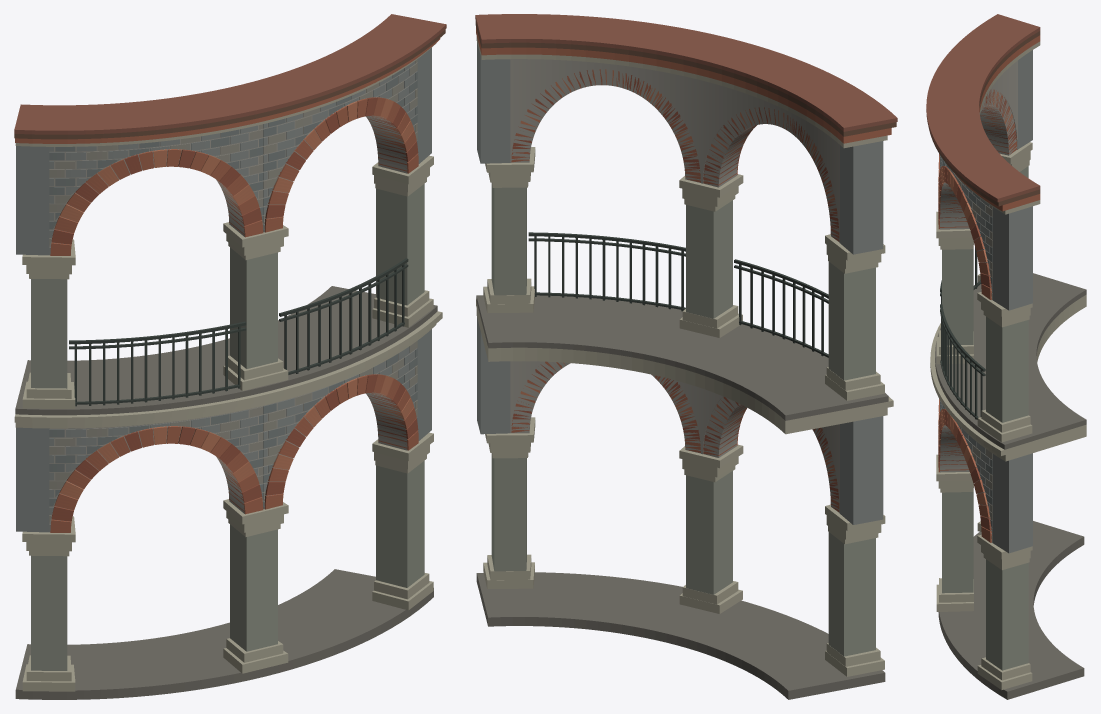
File: hongkou-yihong-garden-curved-double-arcade-raw.glb
3 renders of one model, left to right at view 1: azimuth 30°, elevation 25°; view 2: azimuth 150°, elevation 25°; view 3: azimuth 270°, elevation 25°, orthographic. The views are drawn at different scales.
Visible parts, largest first — view 1: 扆虹园弧形端廊上下双券与铸铁栏杆; view 2: 扆虹园弧形端廊上下双券与铸铁栏杆; view 3: 扆虹园弧形端廊上下双券与铸铁栏杆.
Boxes of the visible parts, bbox=[...] form: 扆虹园弧形端廊上下双券与铸铁栏杆: bbox=[14, 14, 446, 699]; 扆虹园弧形端廊上下双券与铸铁栏杆: bbox=[475, 14, 897, 699]; 扆虹园弧形端廊上下双券与铸铁栏杆: bbox=[926, 14, 1086, 699].
Size of the model in its own units: 4.51 by 5.73 by 1.65.
